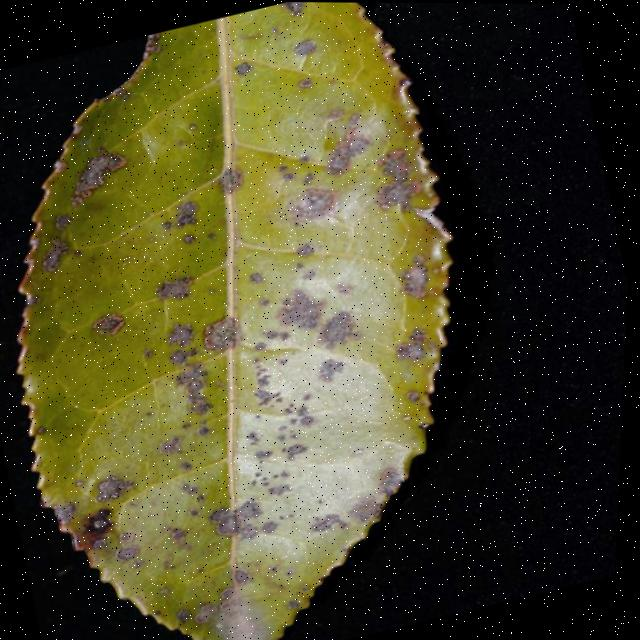Tea red rust: (0, 0, 516, 640)
